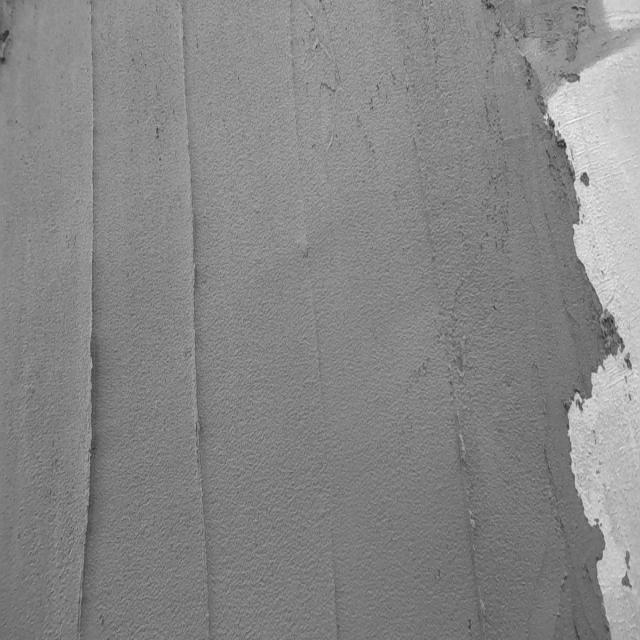trowels marks: (176, 7, 219, 640), (284, 6, 338, 458), (82, 4, 106, 640), (439, 370, 494, 640)
